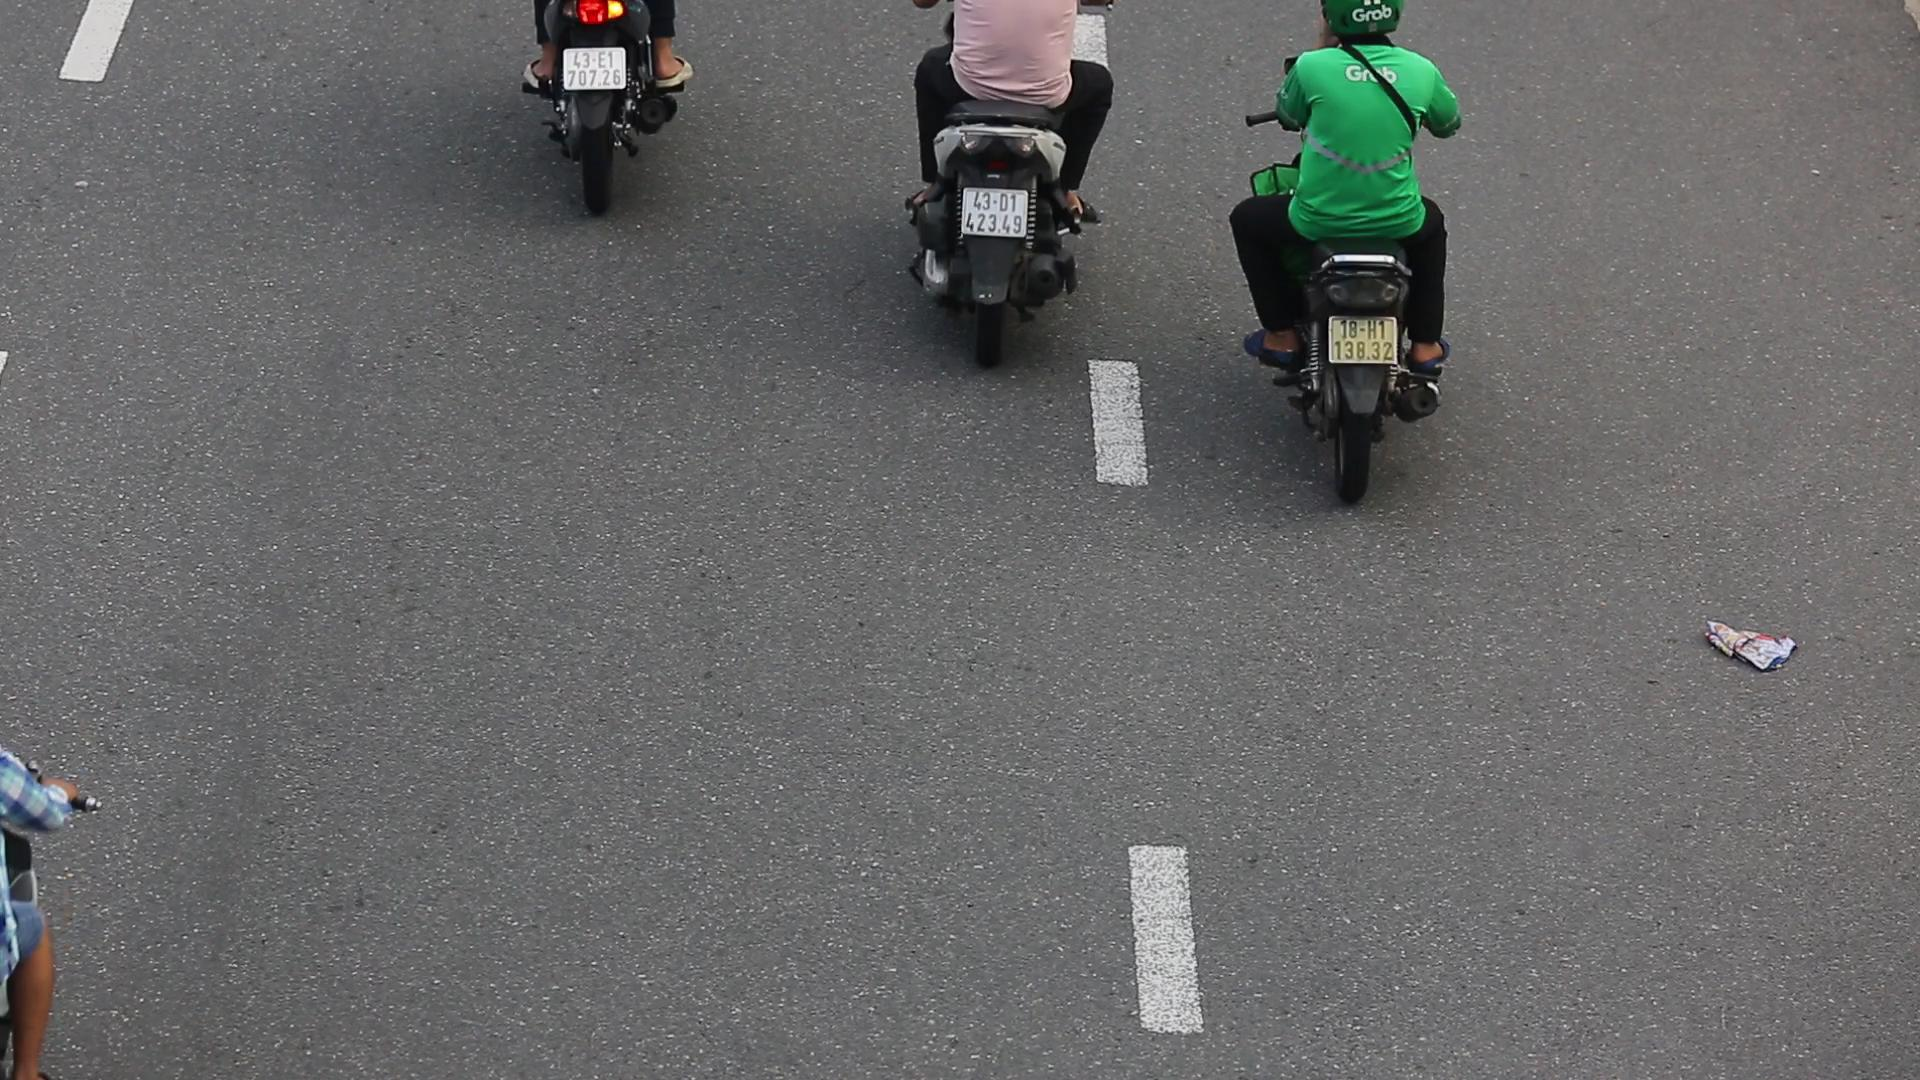motobike: (1222, 0, 1474, 516)
